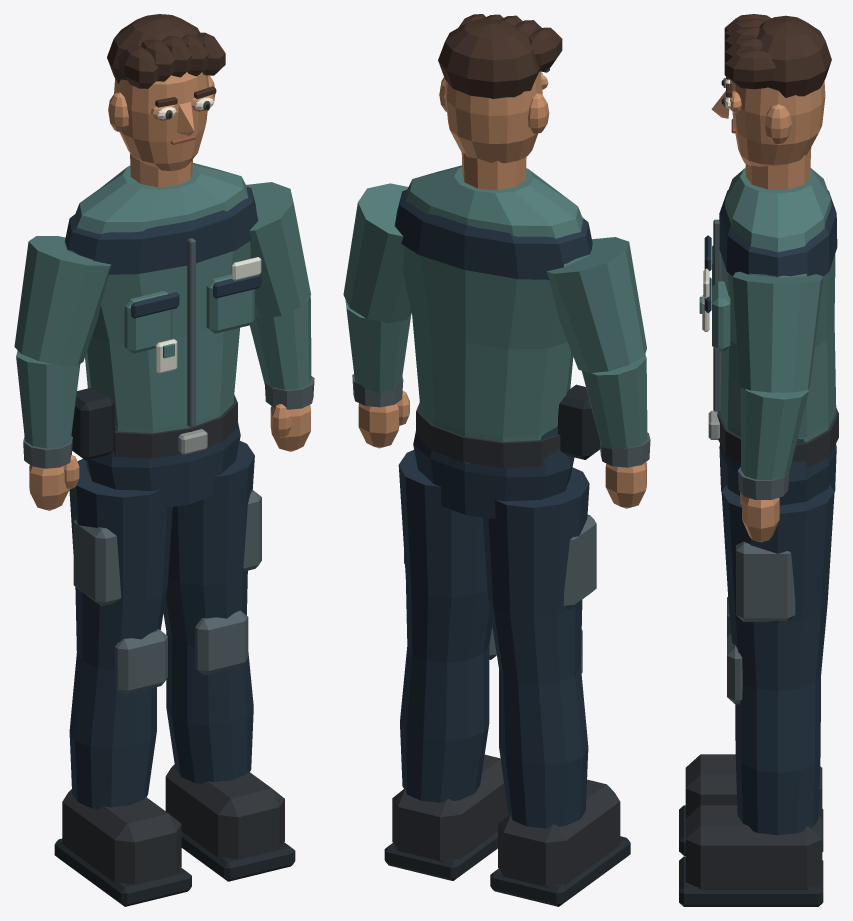
The model's file is Deniz.glb.
The picture shows the model from 3 angles, left to right: view 1: azimuth 30°, elevation 25°; view 2: azimuth 150°, elevation 25°; view 3: azimuth 270°, elevation 25°; orthographic projection. The views are drawn at different scales.
Parts seen in each view (by area): view 1: Deniz; view 2: Deniz; view 3: Deniz.
Part boxes in pixels (x1,y1,x2,y2): Deniz: (14,14,314,906); Deniz: (343,14,650,906); Deniz: (679,14,838,906).
Size of the model in its own units: 0.6259 by 1.73 by 0.297.
